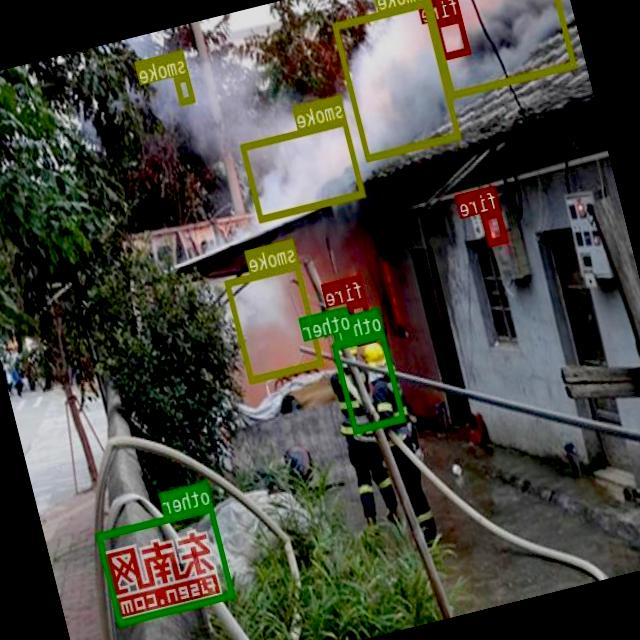fire: (434, 14, 472, 58), (348, 298, 377, 344), (481, 207, 508, 245)
smoke: (333, 0, 461, 159), (420, 0, 577, 97), (240, 116, 366, 222), (224, 260, 324, 381), (174, 71, 197, 104)
